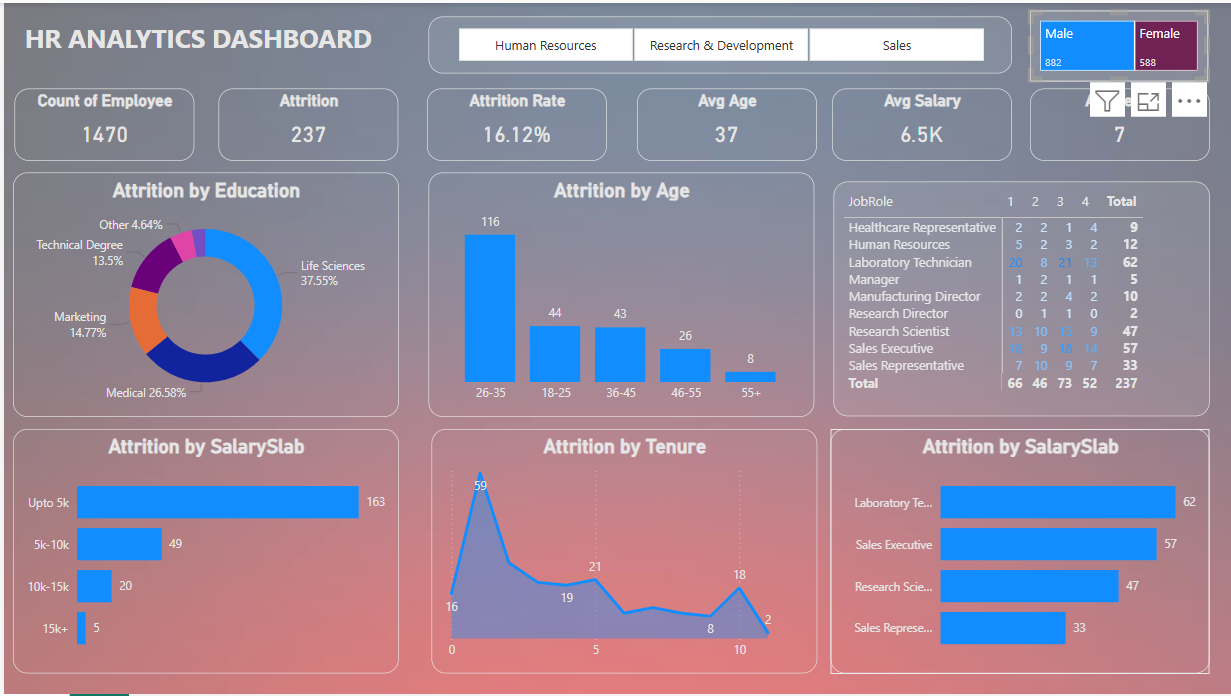

Layout of this report page (visuals, bound fields, positions):
{"tool":"powerbi","page":{"name":"Page 1","canvas":[1280,720],"ordinal":0},"visuals":[{"type":"card","title":"Count of Employee","fields":{"Values":["Count(HR_Analytics.EmpID)"]},"box":[10.3,89,187.5,75.4],"z":0},{"type":"card","title":"Attrition","fields":{"Values":["Sum(HR_Analytics.AttritionCount)"]},"box":[223.6,89,187.5,75.4],"z":1000},{"type":"card","title":"Attrition Rate","fields":{"Values":["HR_Analytics.AttritionRate"]},"box":[441.3,89,187.3,75.2],"z":2000},{"type":"card","title":"Avg Age","fields":{"Values":["Avg(HR_Analytics.Age)"]},"box":[658.9,89,187.3,75.2],"z":3000},{"type":"card","title":"Avg Salary","fields":{"Values":["Avg(HR_Analytics.MonthlyIncome)"]},"box":[862.2,89,187.3,75.2],"z":4000},{"type":"card","title":"Avg Years","fields":{"Values":["Avg(HR_Analytics.YearsAtCompany)"]},"box":[1068.7,89,187.3,75.2],"z":5000},{"type":"donutChart","title":"Attrition by Education","fields":{"Category":["HR_Analytics.EducationField"],"Y":["Sum(HR_Analytics.AttritionCount)"]},"box":[9.6,176.1,401.8,254.5],"z":6000},{"type":"columnChart","title":"Attrition by Age","fields":{"Category":["HR_Analytics.AgeGroup"],"Y":["Sum(HR_Analytics.AttritionCount)"]},"box":[441.8,176.1,401.8,254.5],"z":7000},{"type":"pivotTable","fields":{"Rows":["HR_Analytics.JobRole"],"Columns":["HR_Analytics.JobSatisfaction"],"Values":["Sum(HR_Analytics.AttritionCount)"]},"box":[864.4,185.7,392.2,244.9],"z":8000},{"type":"barChart","title":"Attrition by SalarySlab","fields":{"Category":["HR_Analytics.SalarySlab"],"Y":["Sum(HR_Analytics.AttritionCount)"]},"box":[9.6,443.4,401.8,254.5],"z":9000},{"type":"areaChart","title":"Attrition by Tenure","fields":{"Category":["HR_Analytics.YearsAtCompany"],"Y":["Sum(HR_Analytics.AttritionCount)"]},"box":[445,443.4,401.8,254.5],"z":10000},{"type":"barChart","title":"Attrition by SalarySlab","fields":{"Category":["HR_Analytics.JobRole"],"Y":["Sum(HR_Analytics.AttritionCount)"]},"box":[861.2,443.4,395.4,254.5],"z":11000},{"type":"treemap","fields":{"Group":["HR_Analytics.Gender"],"Values":["CountNonNull(HR_Analytics.Attrition)"]},"box":[1069,8,186,74],"z":12000},{"type":"slicer","fields":{"Values":["HR_Analytics.Department"]},"box":[441.8,14.4,608.3,59.2],"z":13000},{"type":"textbox","box":[9.6,12.8,385.8,65.6],"z":14000}]}

Visuals, with their boxes in screenshot pixels (x1, y1, x2, y2), scaled from the page's 1280x720 canvas onto the 1231x696 screenshot:
"Count of Employee" card: crop(10, 86, 190, 159)
"Attrition" card: crop(215, 86, 395, 159)
"Attrition Rate" card: crop(424, 86, 605, 159)
"Avg Age" card: crop(634, 86, 814, 159)
"Avg Salary" card: crop(829, 86, 1009, 159)
"Avg Years" card: crop(1028, 86, 1208, 159)
"Attrition by Education" donutChart: crop(9, 170, 396, 416)
"Attrition by Age" columnChart: crop(425, 170, 811, 416)
pivotTable - HR_Analytics.JobRole x HR_Analytics.JobSatisfaction: crop(831, 180, 1208, 416)
"Attrition by SalarySlab" barChart: crop(9, 429, 396, 675)
"Attrition by Tenure" areaChart: crop(428, 429, 814, 675)
"Attrition by SalarySlab" barChart: crop(828, 429, 1208, 675)
treemap - HR_Analytics.Gender x CountNonNull(HR_Analytics.Attrition): crop(1028, 8, 1207, 79)
slicer - HR_Analytics.Department: crop(425, 14, 1010, 71)
textbox: crop(9, 12, 380, 76)
